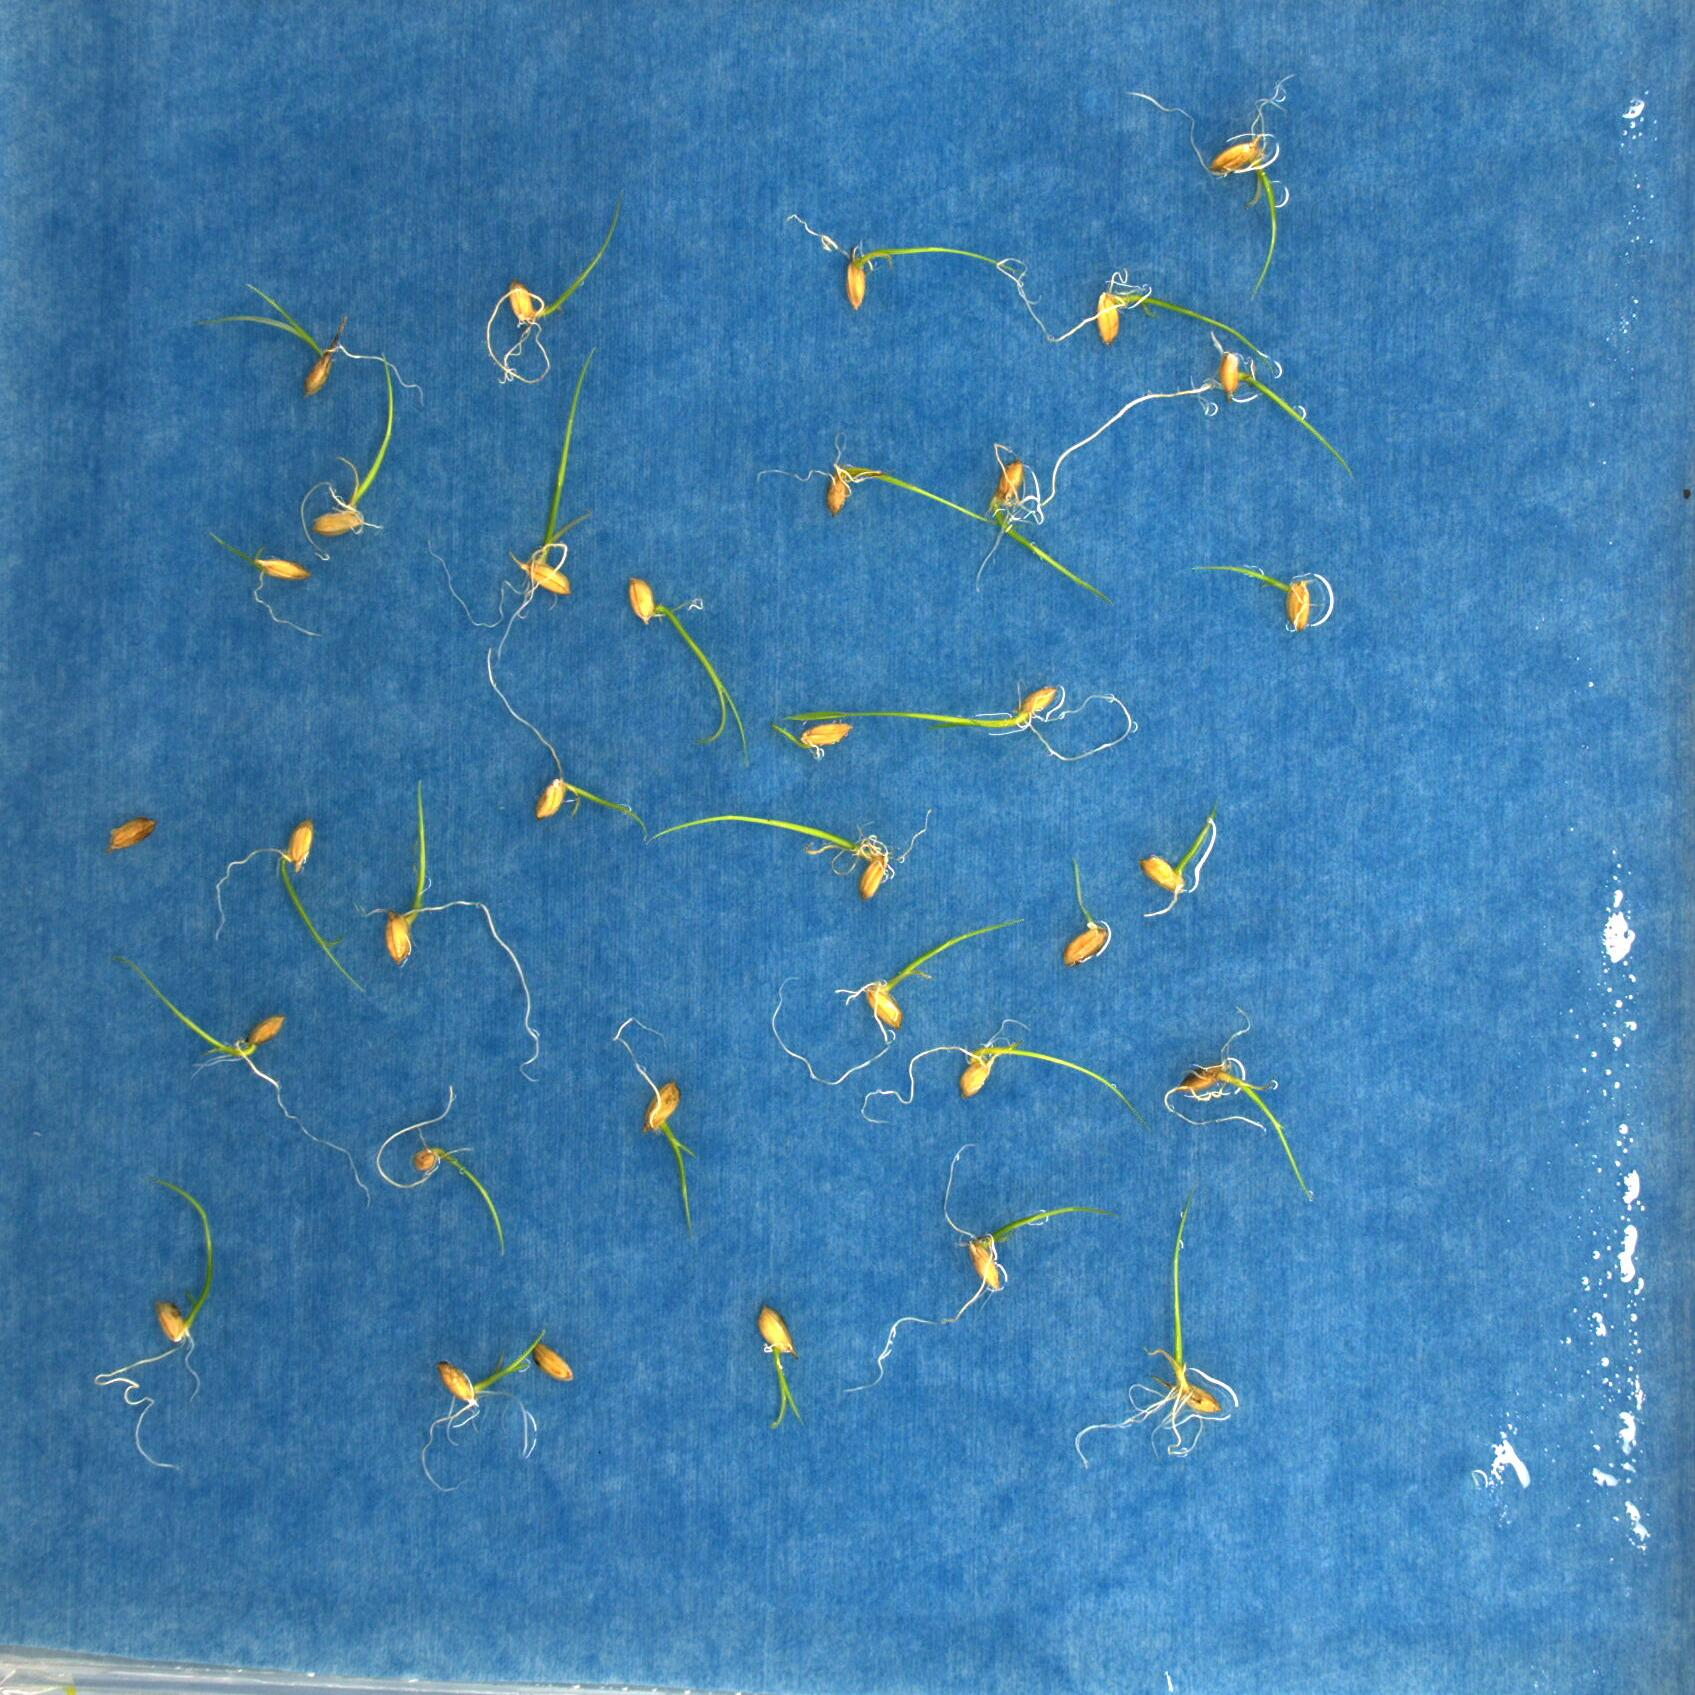not sprout: (531, 1336, 582, 1389), (104, 807, 155, 852)
sprout: (834, 1150, 1113, 1395), (113, 947, 365, 1203), (1018, 334, 1358, 509), (369, 768, 551, 1096), (427, 328, 602, 649), (762, 914, 1038, 1090), (1069, 1198, 1240, 1470), (82, 1172, 224, 1479), (1124, 71, 1298, 312), (851, 1017, 1149, 1139), (480, 650, 653, 852), (778, 680, 1144, 771), (989, 256, 1284, 369), (1155, 1004, 1316, 1211), (650, 799, 959, 906), (478, 189, 632, 397), (206, 813, 369, 1000), (978, 436, 1124, 619), (619, 577, 757, 768), (227, 281, 422, 411), (413, 1319, 553, 1490), (754, 445, 1000, 542), (296, 355, 408, 563), (604, 1014, 705, 1234), (792, 210, 1007, 312), (376, 1083, 508, 1250), (206, 511, 328, 647), (1173, 557, 1335, 640), (1128, 796, 1226, 924), (747, 1301, 804, 1430), (1059, 854, 1118, 973), (762, 716, 854, 757)
